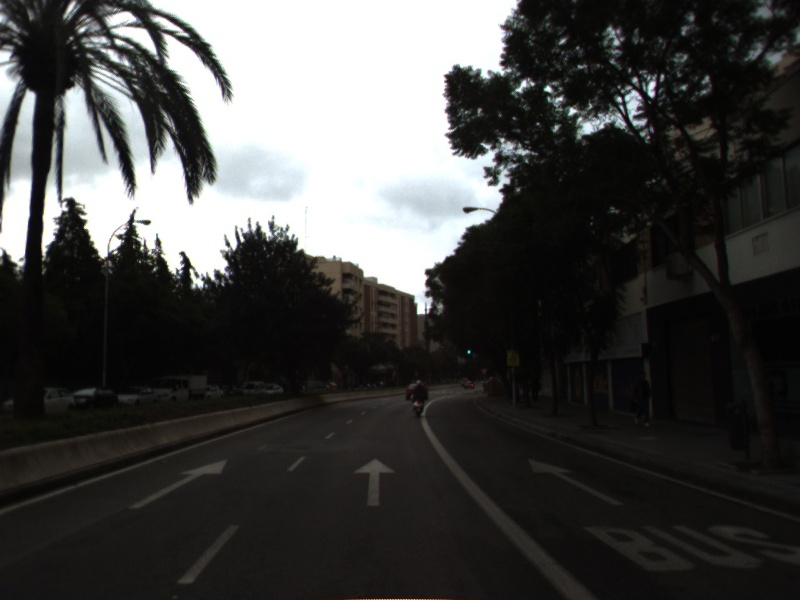STRAIGHT: (126, 456, 232, 511), (526, 456, 626, 507), (351, 456, 398, 508)
